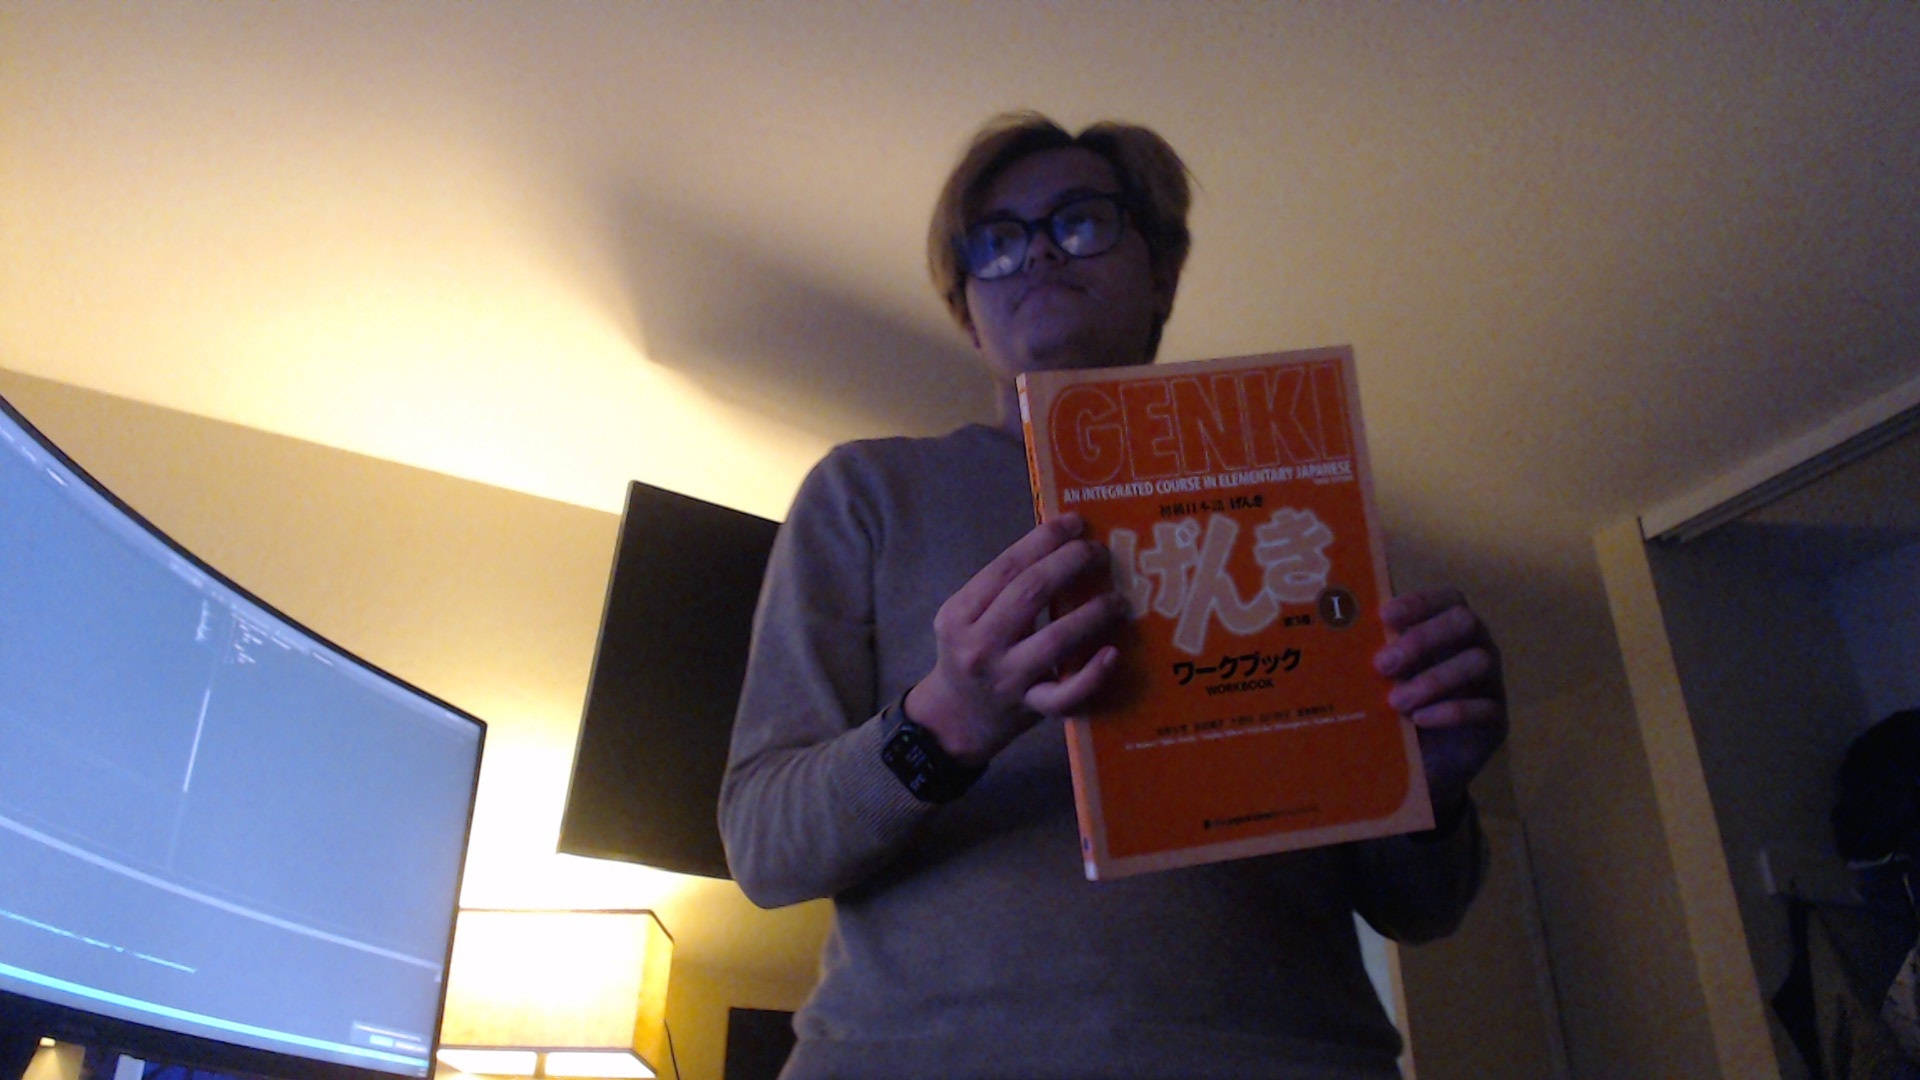book: (1011, 342, 1443, 884)
